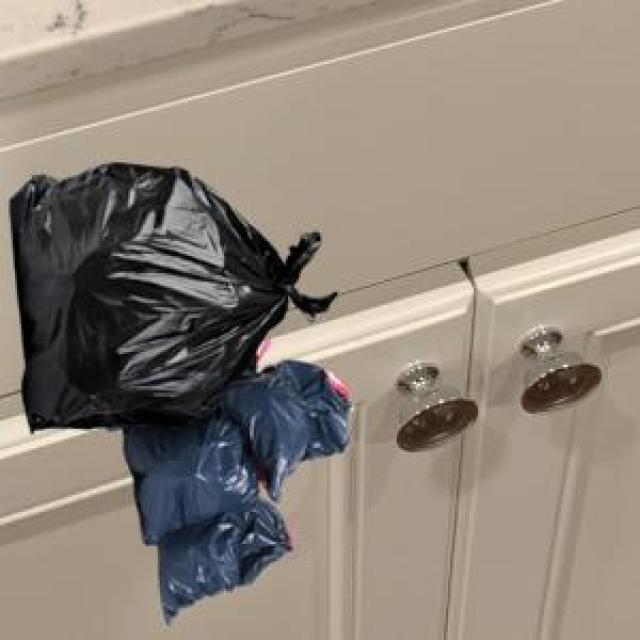waste: (10, 162, 349, 618)
